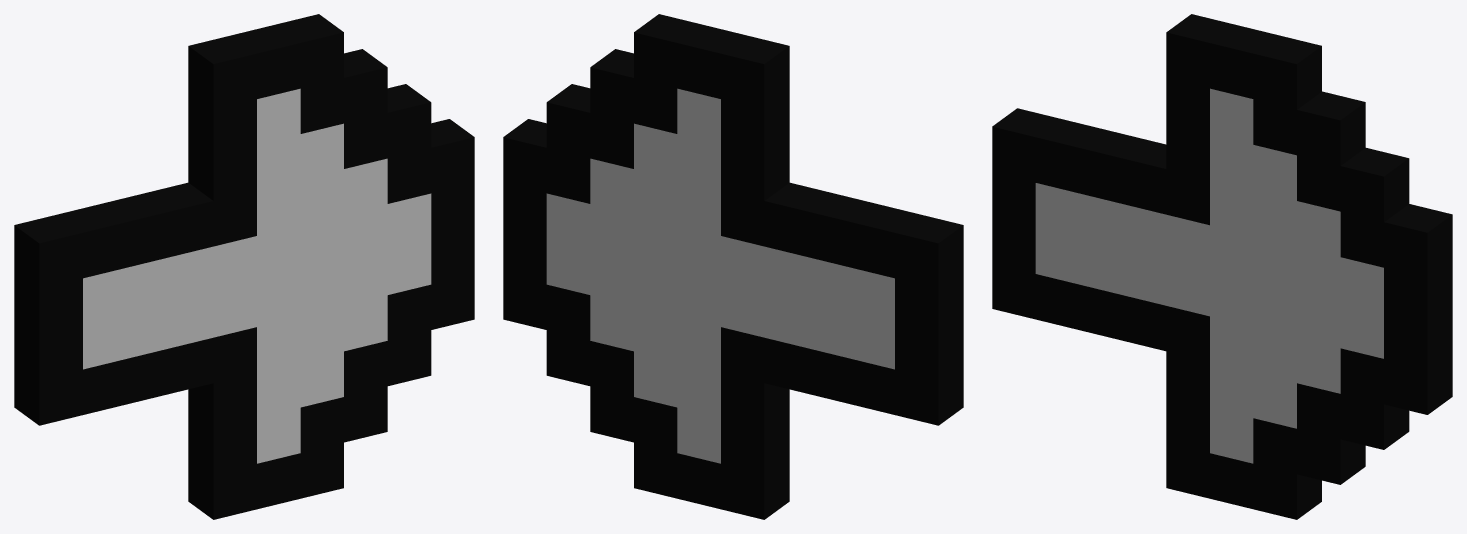
File: Snowdash.glb
The picture shows the model from 3 angles, left to right: view 1: azimuth 30°, elevation 25°; view 2: azimuth 150°, elevation 25°; view 3: azimuth 330°, elevation 25°; orthographic projection.
Visible parts, largest first — view 1: generated(Clone); view 2: generated(Clone); view 3: generated(Clone).
Boxes of the visible parts, left/top/right/bottom form: generated(Clone): left=14, top=14, right=474, bottom=519; generated(Clone): left=503, top=14, right=963, bottom=519; generated(Clone): left=992, top=14, right=1452, bottom=519.
Bounding box in the file's own units: 10 × 10 × 1.
Materials: 1 (1 with a texture image).
